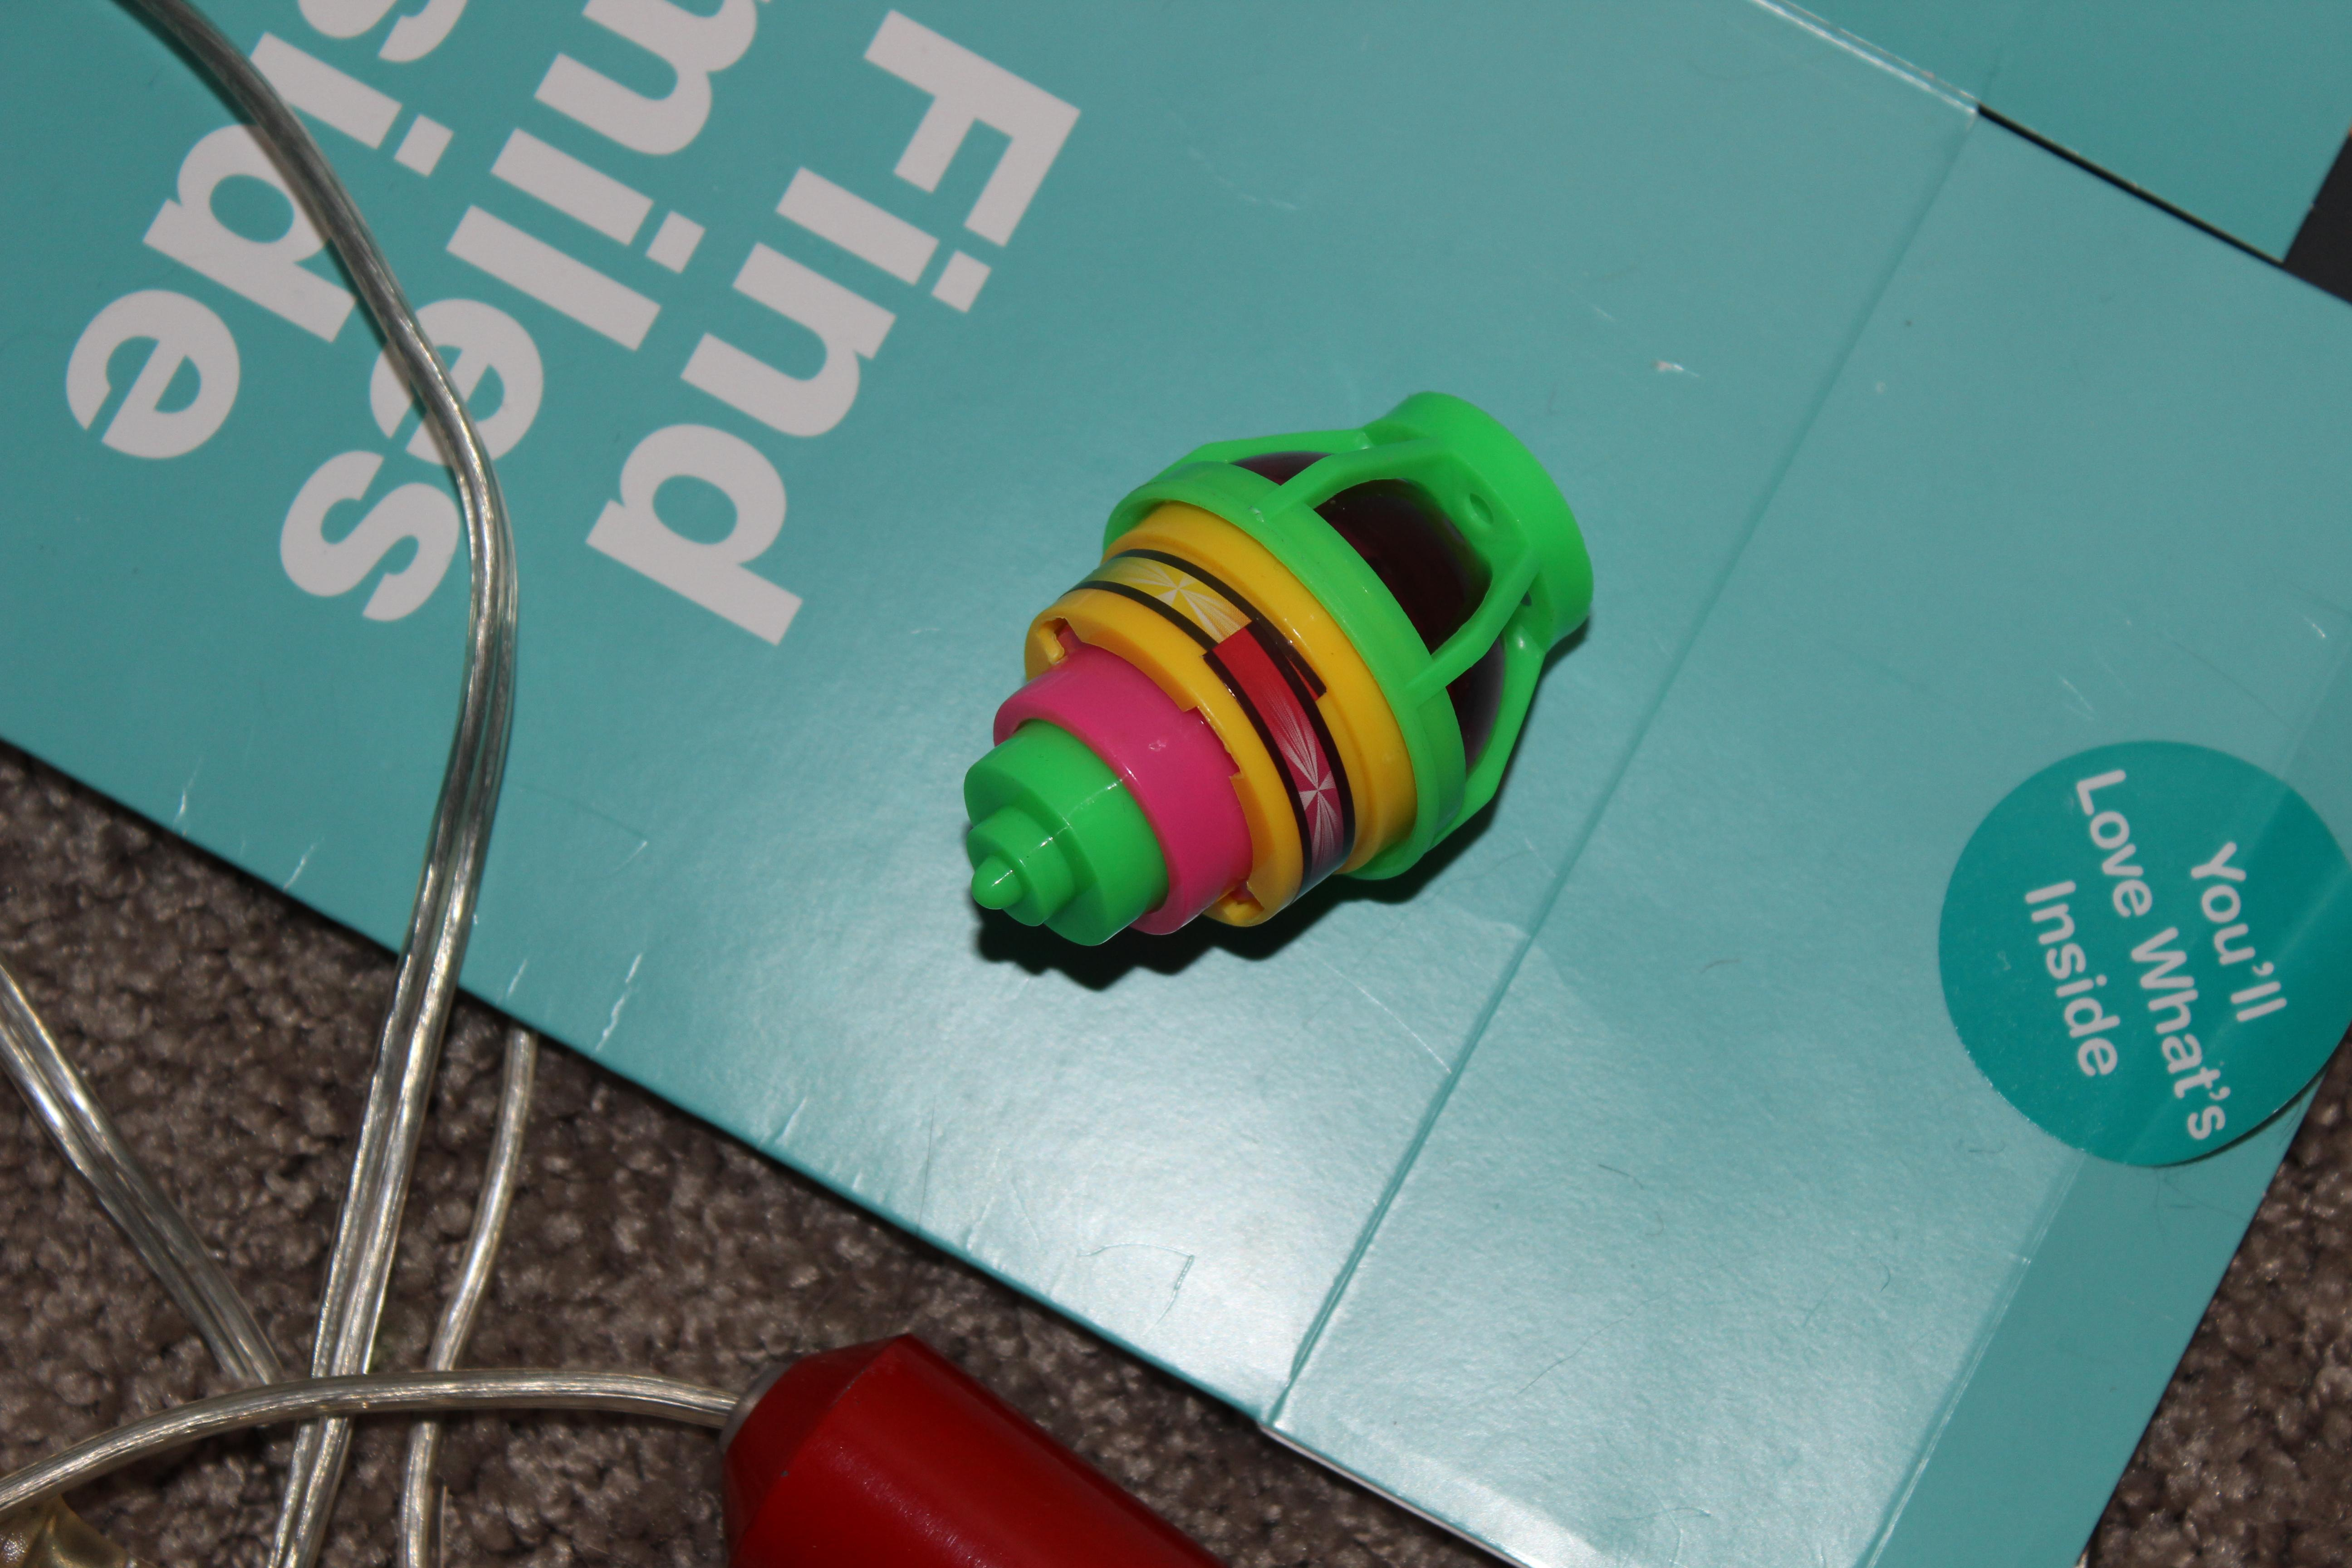gyroscope: (940, 362, 1626, 1013)
